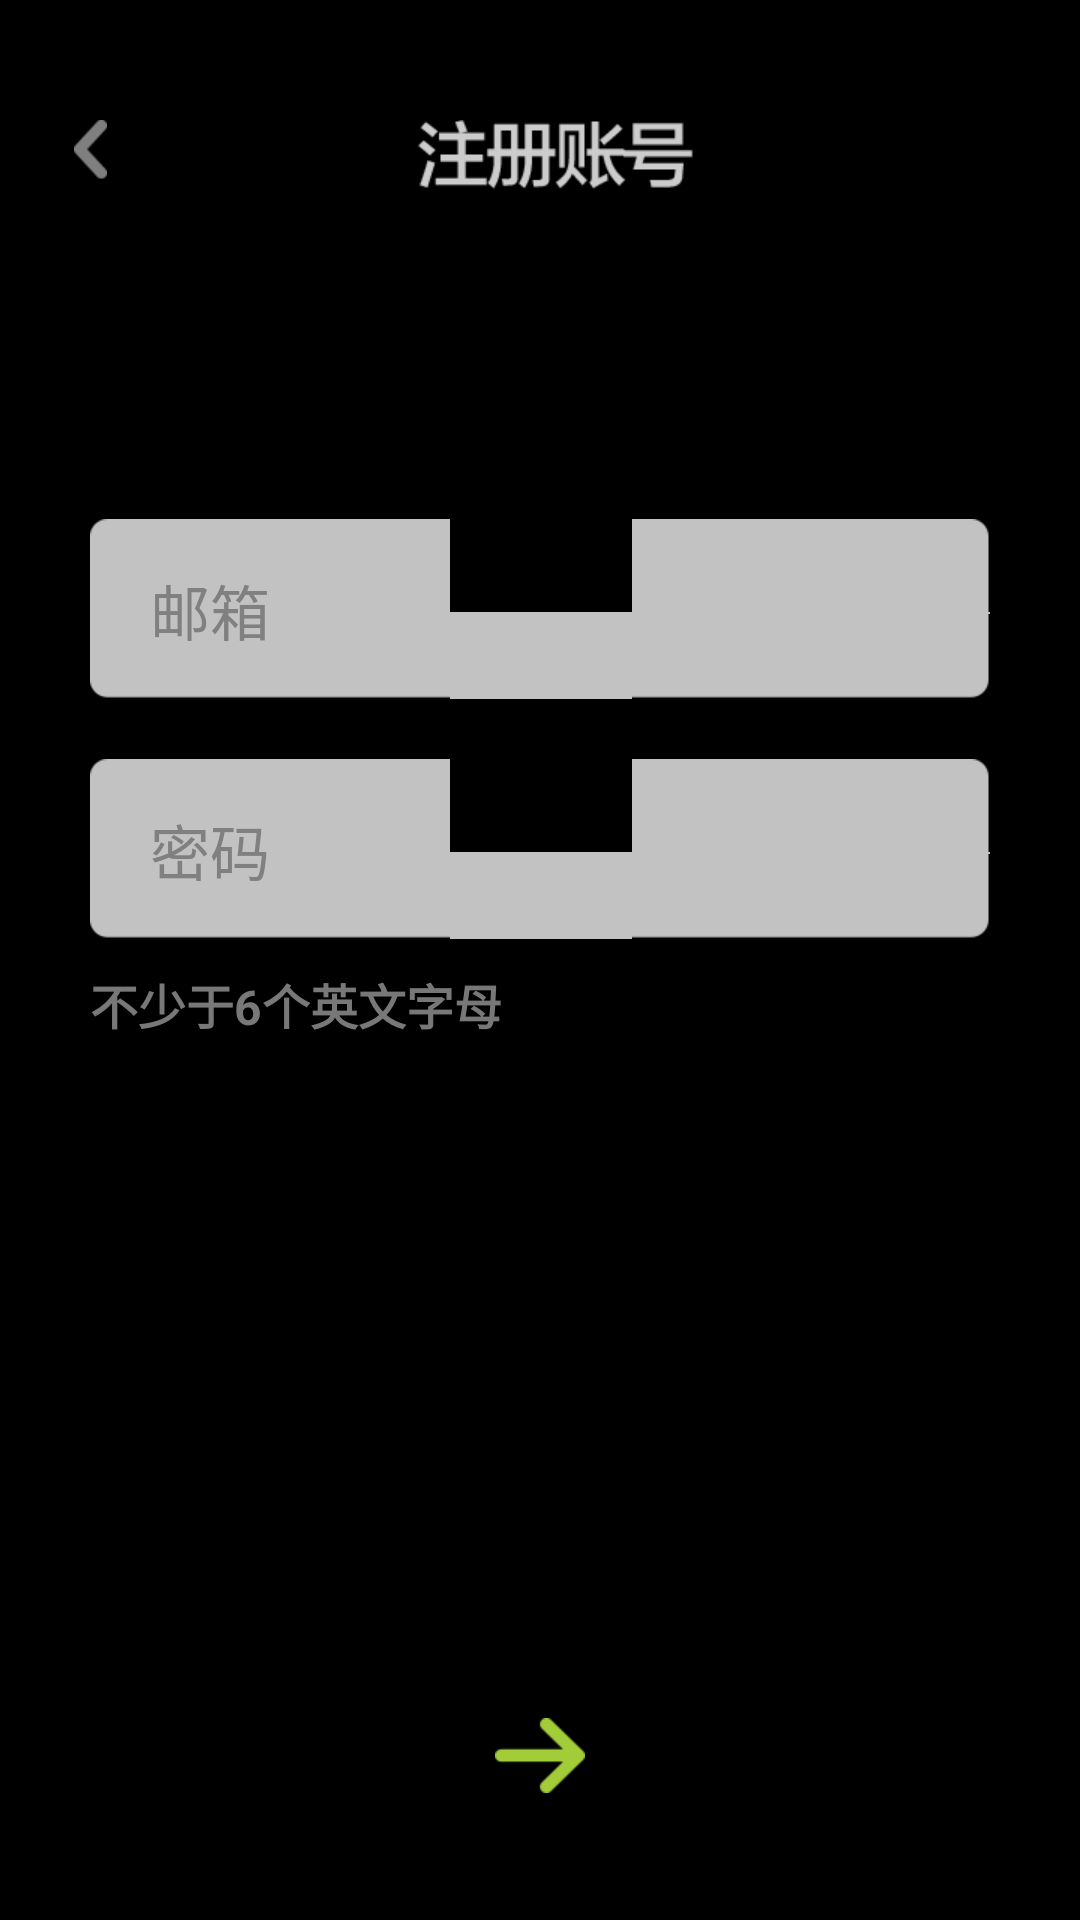

Locate icon controls on the screen. Image size 1080px×1920px, boxes as (x1, y1, x2, y2).
back: (74, 120, 107, 179)
regist arrow: (495, 1718, 585, 1793)
